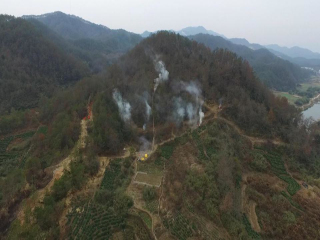smoke: (112, 54, 206, 148)
